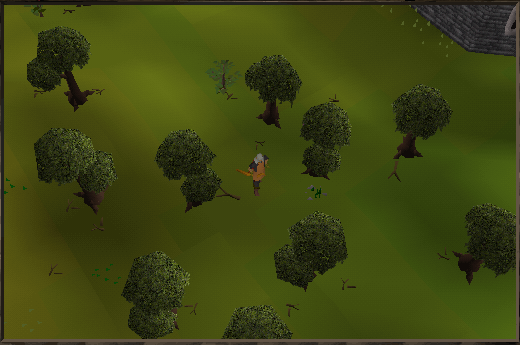Tree: (42, 127, 117, 211), (22, 25, 93, 107), (459, 198, 515, 296), (391, 76, 451, 166), (249, 53, 298, 126)
